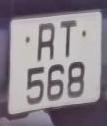5: (24, 61, 48, 112)
6: (45, 61, 68, 103)
8: (65, 58, 88, 105)
R: (33, 19, 61, 63)
T: (56, 16, 80, 60)
